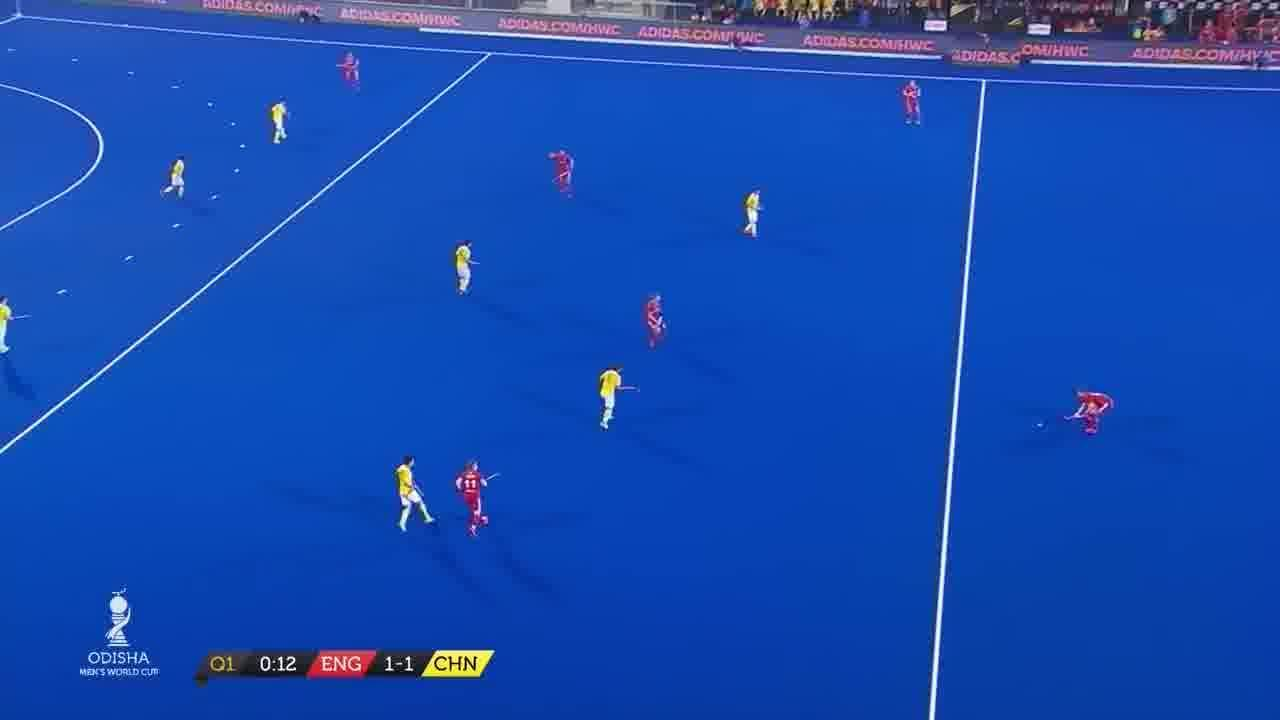ball: (1030, 420, 1051, 436)
